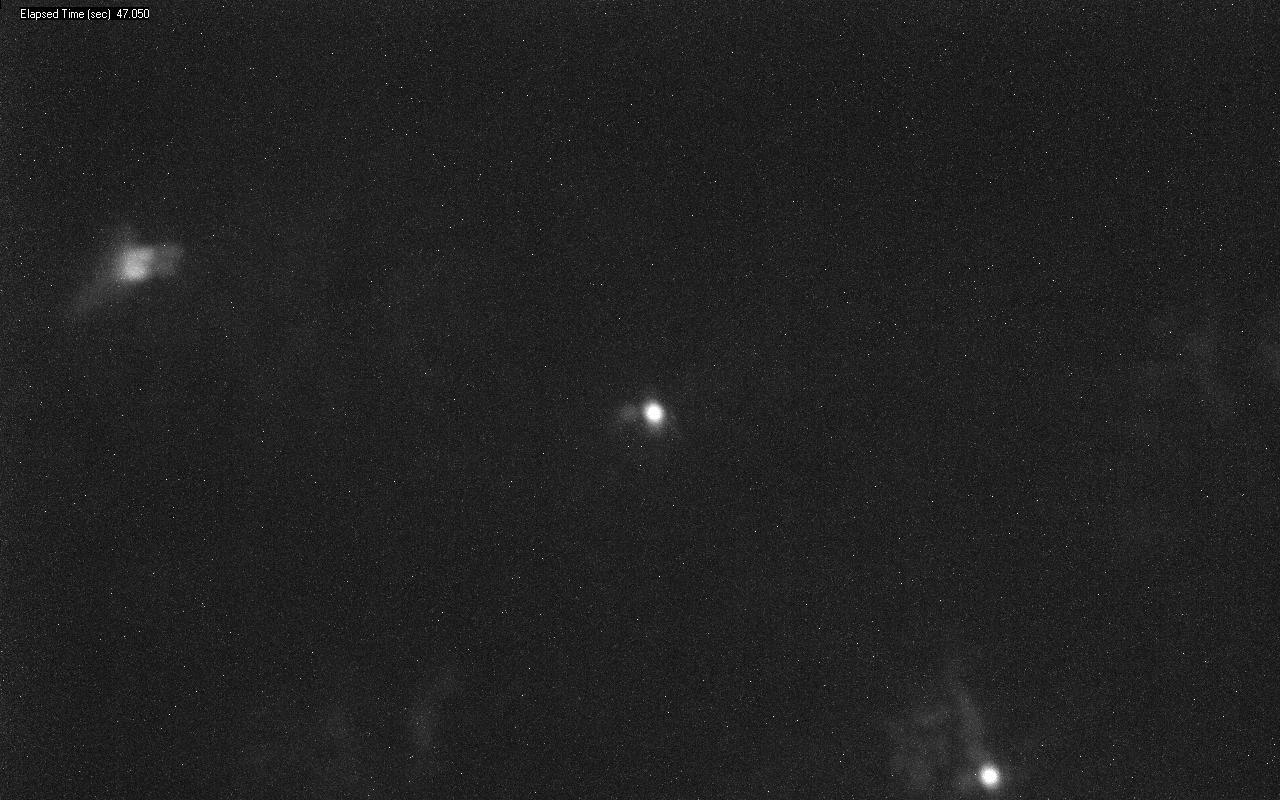Bead: (642, 401, 664, 430), (978, 763, 1000, 790)
